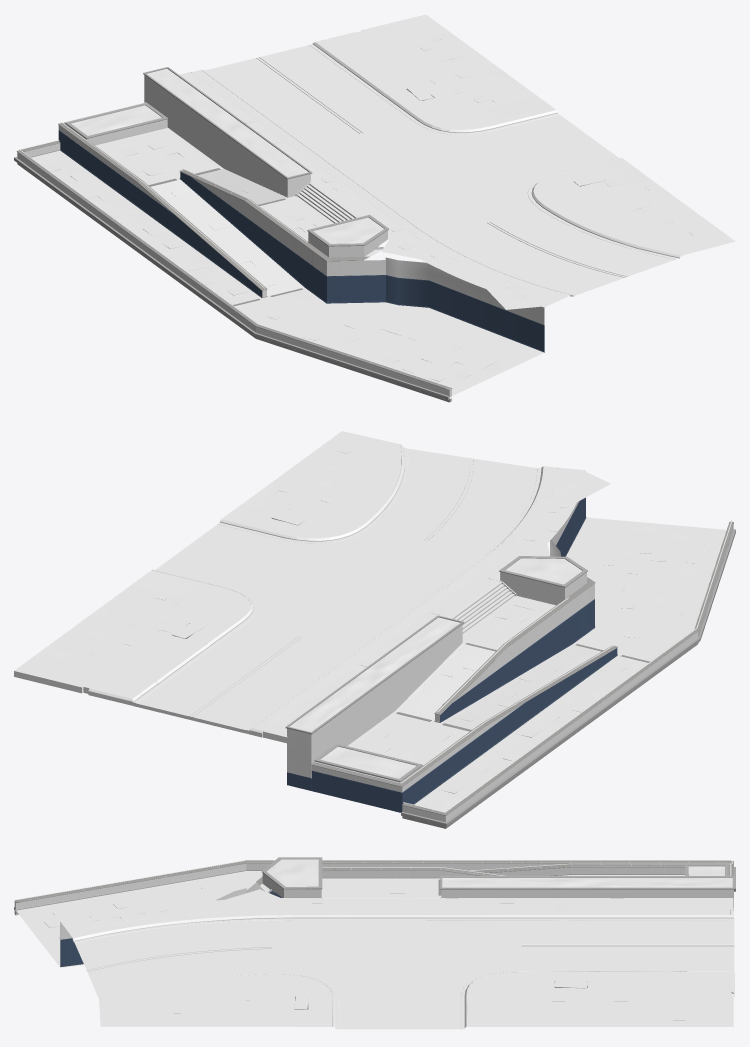
3 renders of one model, top to bottom at view 1: azimuth 30°, elevation 25°; view 2: azimuth 150°, elevation 25°; view 3: azimuth 270°, elevation 25°, orthographic. The views are drawn at different scales.
Visible parts, largest first — view 1: SM_I_RoadFacility_Ground_D_16; view 2: SM_I_RoadFacility_Ground_D_16; view 3: SM_I_RoadFacility_Ground_D_16.
Boxes of the visible parts, x1,y1,x2,y2 form: SM_I_RoadFacility_Ground_D_16: (14,14,735,402); SM_I_RoadFacility_Ground_D_16: (14,431,735,828); SM_I_RoadFacility_Ground_D_16: (14,857,735,1029).
Bounding box in the file's own units: 2189 × 1468 × 206.
